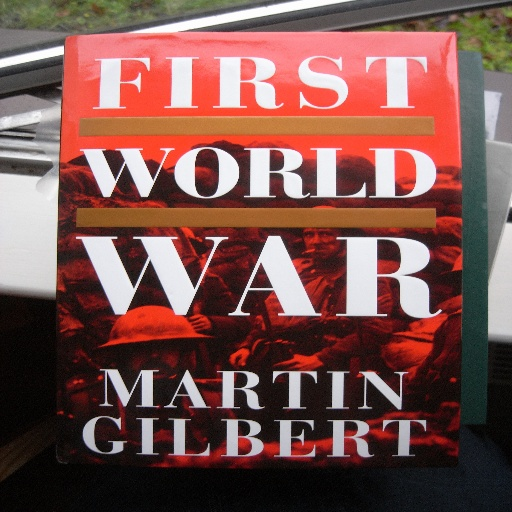hand: (269, 351, 320, 374), (229, 347, 251, 368), (189, 314, 210, 333)
